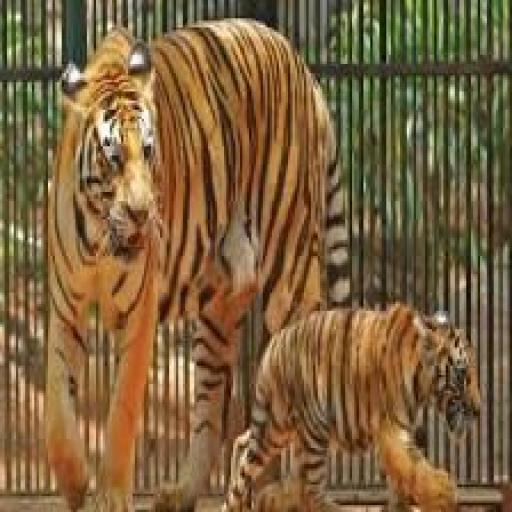Tiger: (41, 18, 485, 512)
